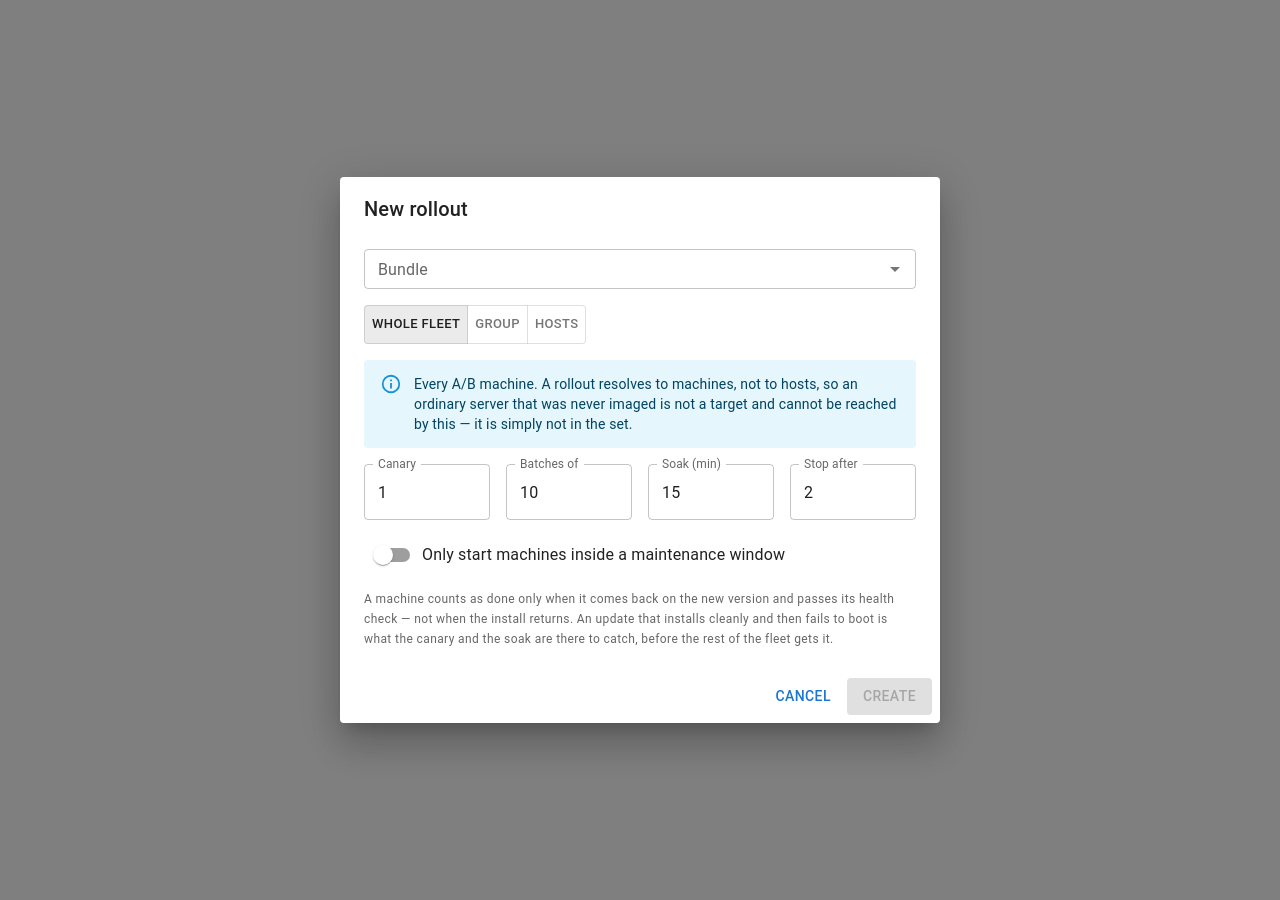
Scenario: rollout targeting › will not submit hosts mode with nothing chosen
The image size is (1280, 900).
Step 1. Press the mouse on the dropdown labelled "Bundle" → [624, 270], box [370,256,877,284]
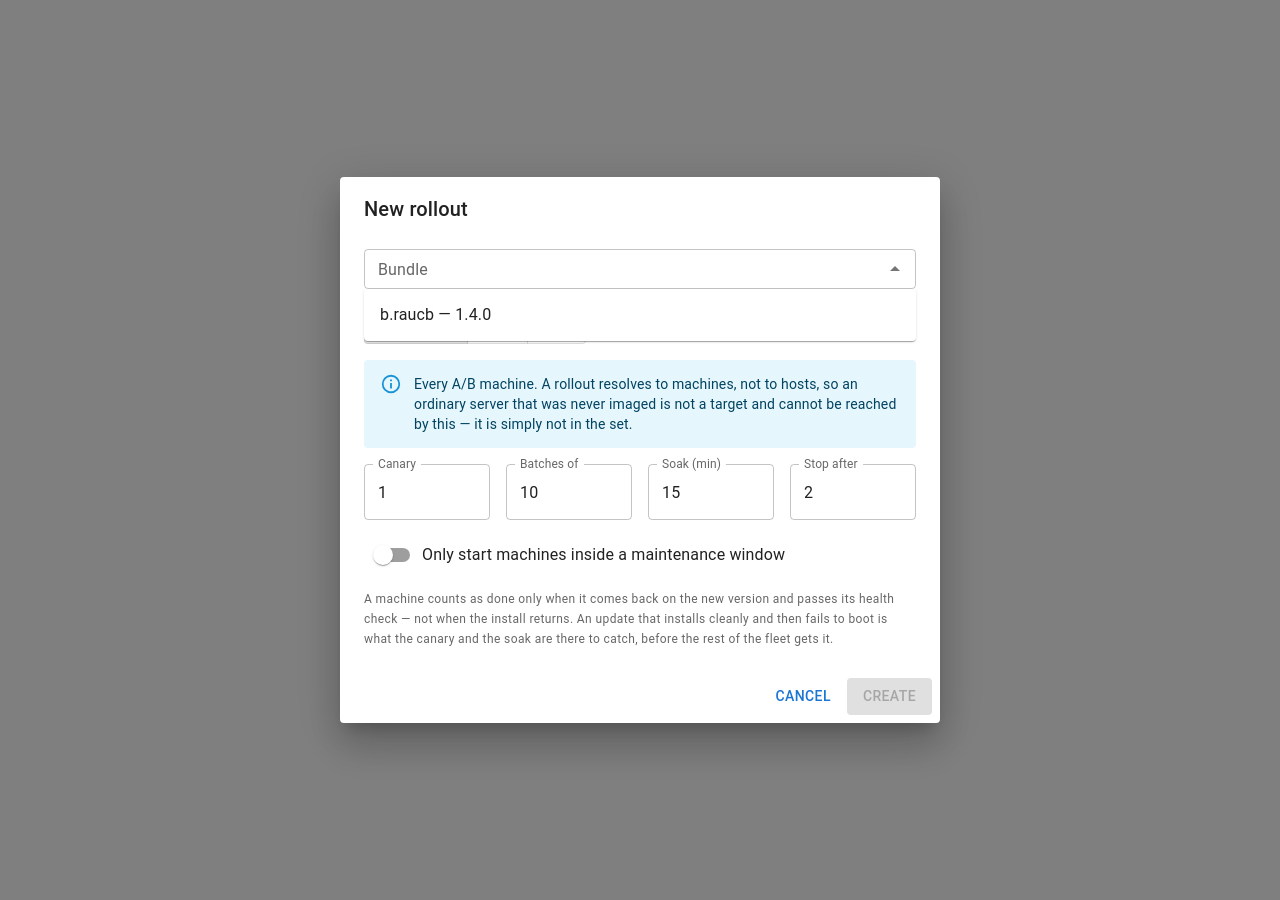
Step 2. Click the option "b.raucb — 1.4.0" → [436, 314], box [380,305,491,324]
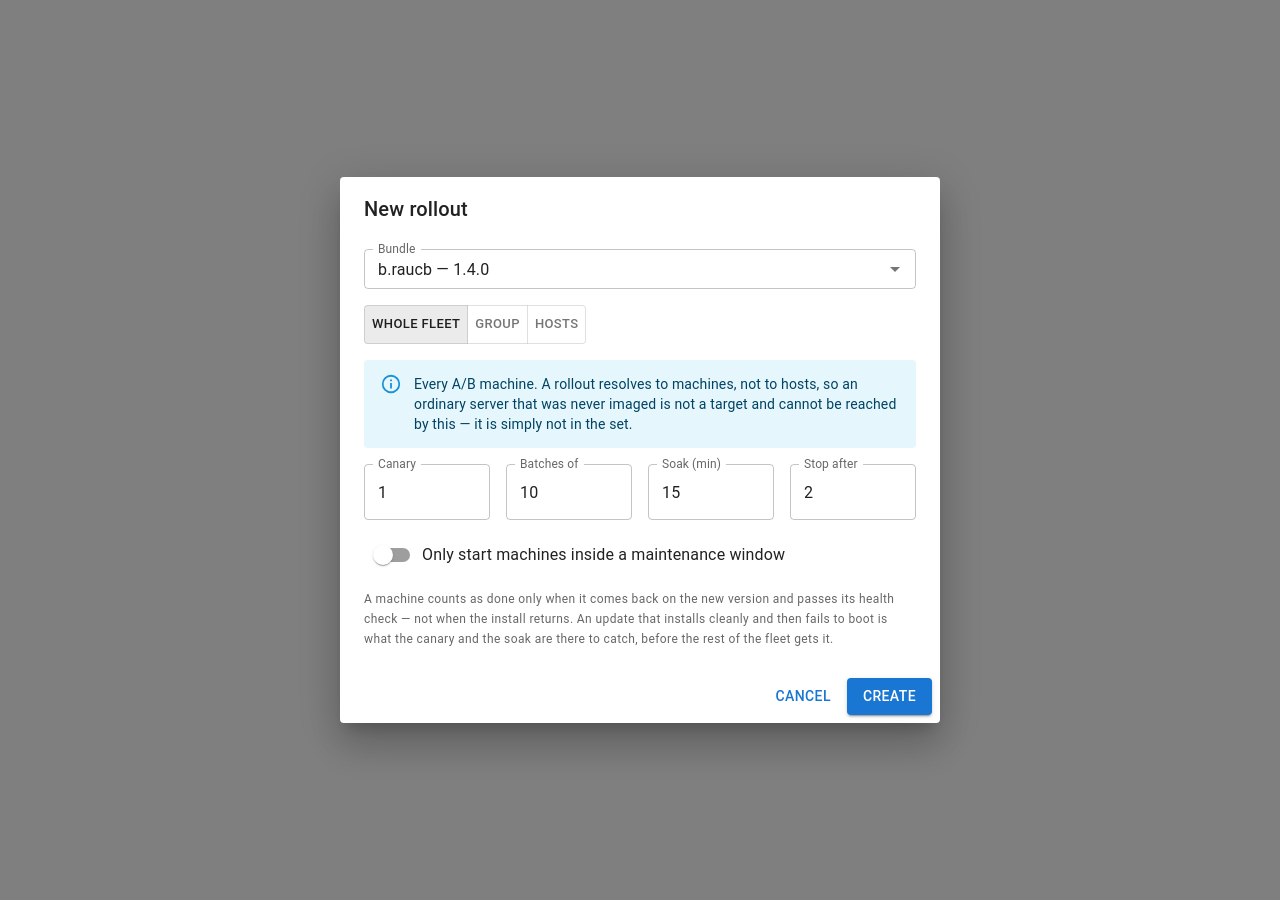
Step 3. Click the button "Hosts" → [557, 325], box [527,306,586,344]
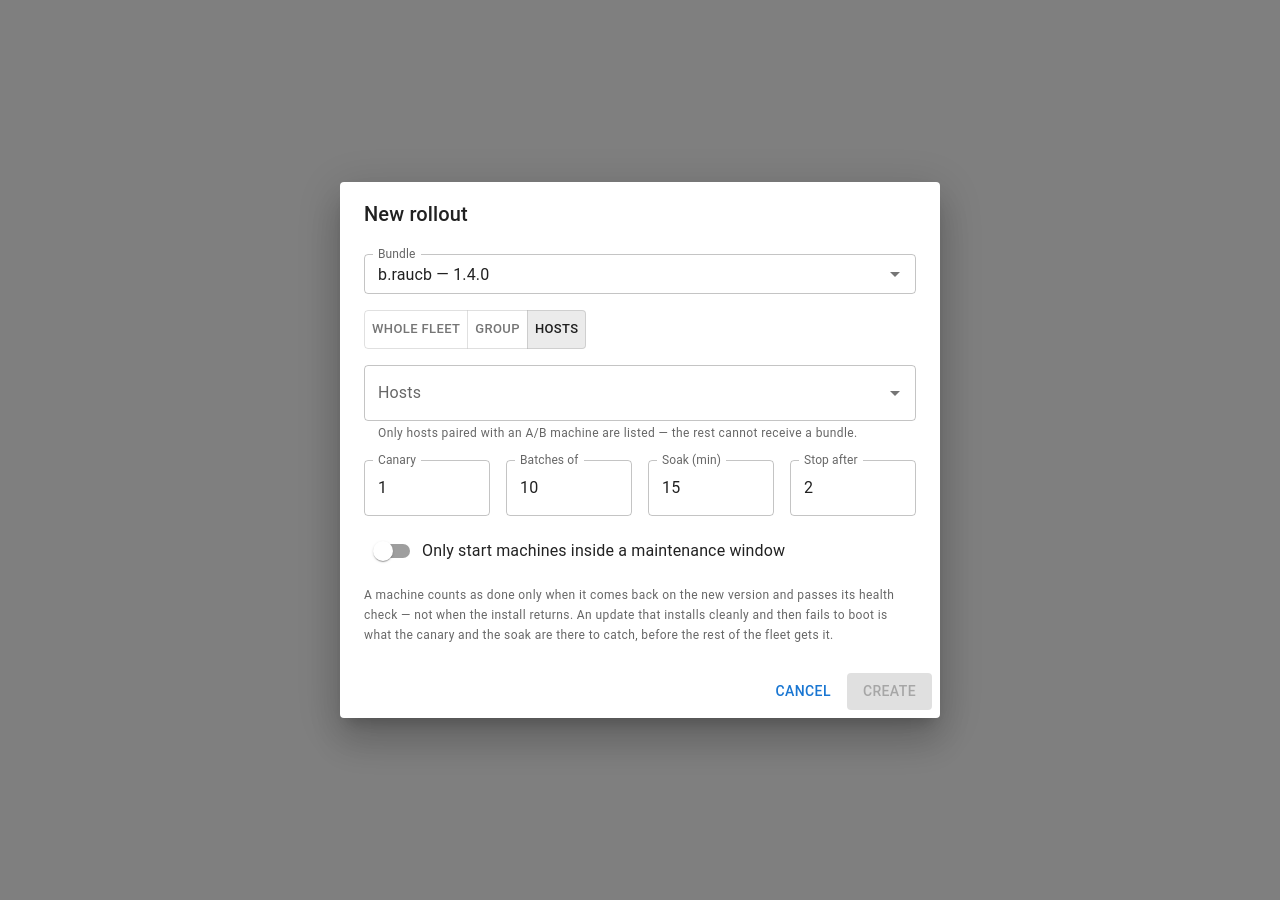
Expected: the button "Create" is disabled, [847,673,932,710]
